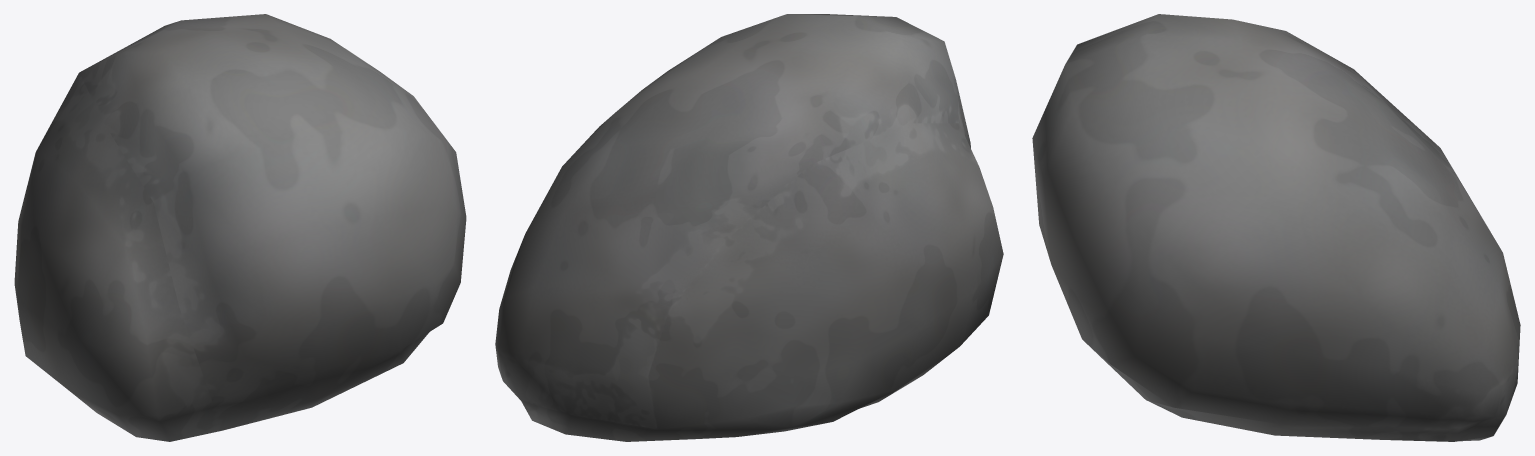
The model's file is rock_04.fbx.
3 views of the same model, side by side, from view 1: azimuth 30°, elevation 25°; view 2: azimuth 150°, elevation 25°; view 3: azimuth 270°, elevation 25° (orthographic). The views are drawn at different scales.
Parts seen in each view (by area): view 1: rock_03; view 2: rock_03; view 3: rock_03.
Boxes of the visible parts, left/top/right/bottom form: rock_03: left=14, top=14, right=466, bottom=441; rock_03: left=495, top=14, right=1003, bottom=441; rock_03: left=1032, top=14, right=1520, bottom=441.
Bounding box in the file's own units: 71.44 × 62.72 × 82.9.
1 material, 1 textured.
